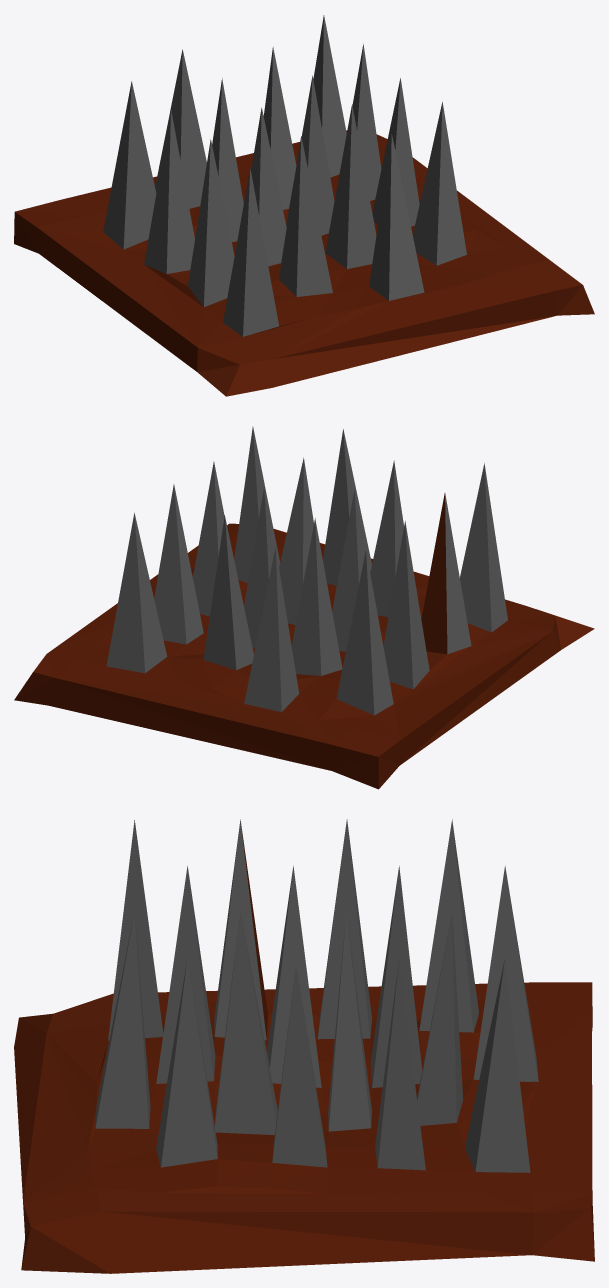
The model's file is spike.fbx.
The picture shows the model from 3 angles, top to bottom: view 1: azimuth 30°, elevation 25°; view 2: azimuth 150°, elevation 25°; view 3: azimuth 270°, elevation 25°; orthographic projection. The views are drawn at different scales.
Visible parts, largest first — view 1: Cube; view 2: Cube; view 3: Cube.
Boxes of the visible parts, x1=… form: Cube: x1=14, y1=15, x2=594, y2=396; Cube: x1=14, y1=426, x2=594, y2=789; Cube: x1=14, y1=819, x2=594, y2=1273.
Size of the model in its own units: 210 by 101 by 208.
